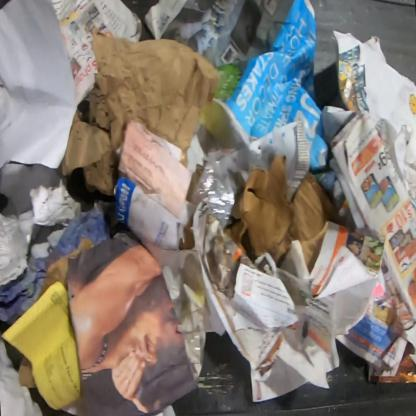cardboard: (223, 154, 346, 275), (34, 238, 96, 305), (18, 354, 36, 389)
rigid_plastic: (189, 149, 236, 228)
